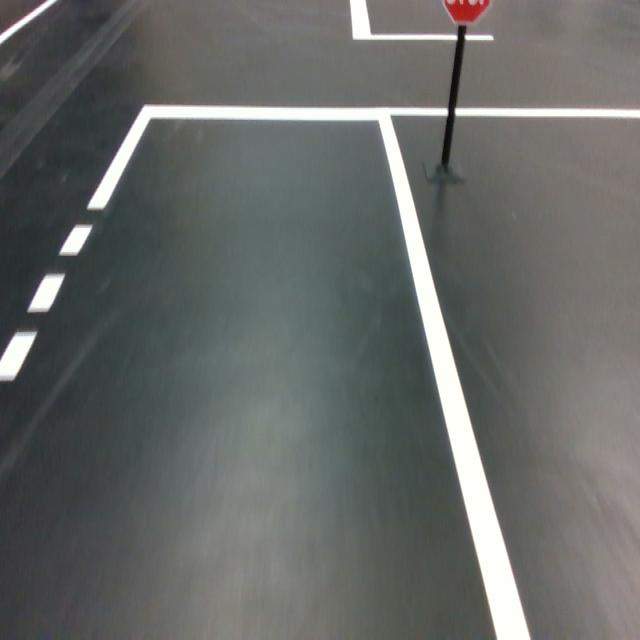stop-sign: (442, 0, 493, 26)
